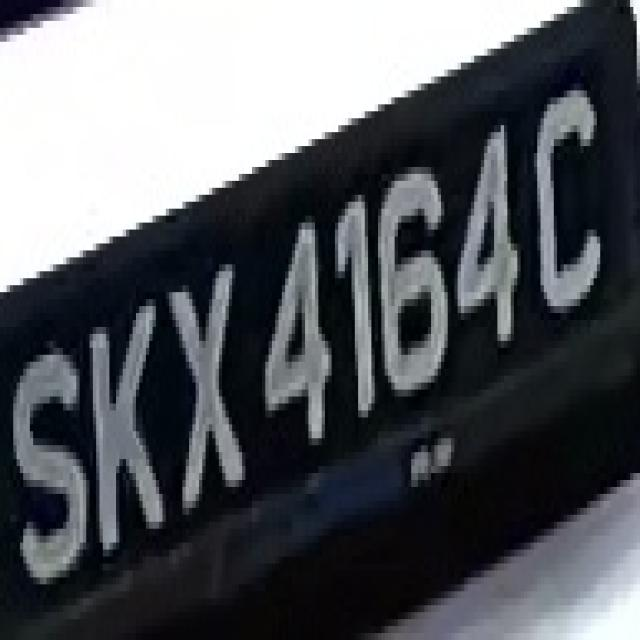1: (328, 160, 378, 438)
4: (245, 160, 335, 473), (441, 118, 531, 369)
6: (368, 160, 448, 403)
C: (530, 70, 604, 327)
K: (76, 272, 162, 556)
S: (3, 299, 93, 605)
X: (162, 244, 255, 536)
